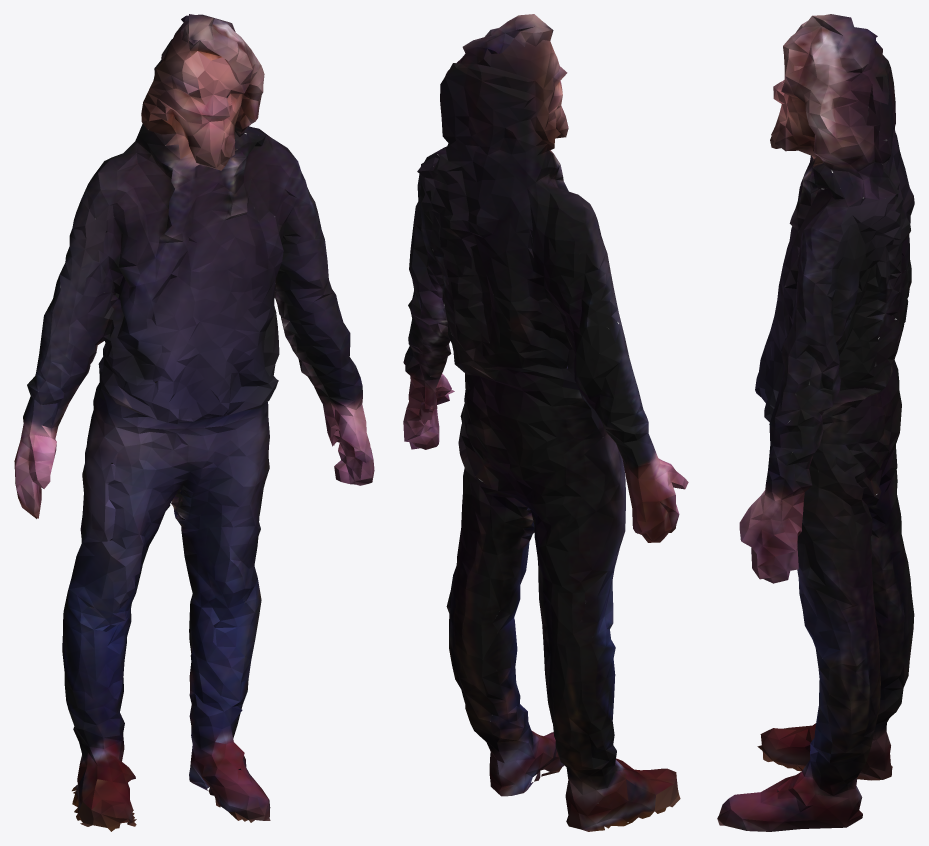
Rendered from Michal_Low_Poly.obj.
3 renders of one model, left to right at view 1: azimuth 30°, elevation 25°; view 2: azimuth 150°, elevation 25°; view 3: azimuth 270°, elevation 25°, orthographic. The views are drawn at different scales.
Parts seen in each view (by area): view 1: michal_skan; view 2: michal_skan; view 3: michal_skan.
Part boxes in pixels (box(x1,y1,x2,y2)): michal_skan: box(14, 14, 374, 831); michal_skan: box(403, 14, 688, 831); michal_skan: box(717, 14, 914, 831).
Bounding box in the file's own units: 0.7565 × 1.79 × 0.4013.
1 material, 1 textured.
